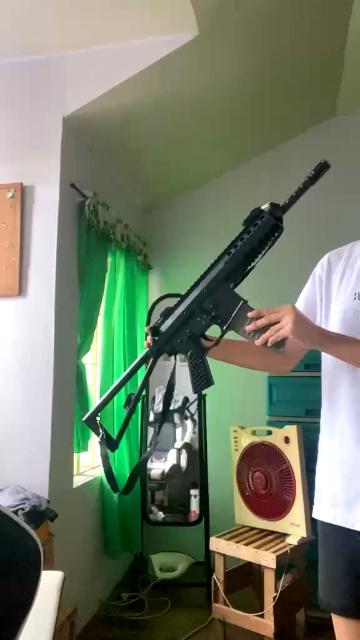rifle: (72, 151, 330, 449)
